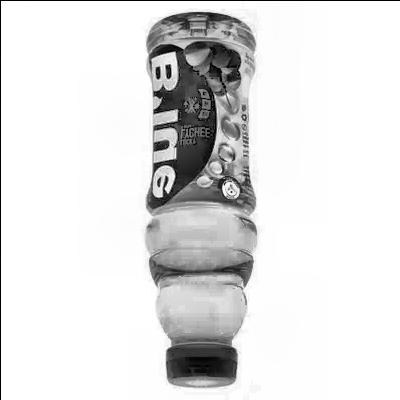waterbottle: (126, 7, 286, 394)
